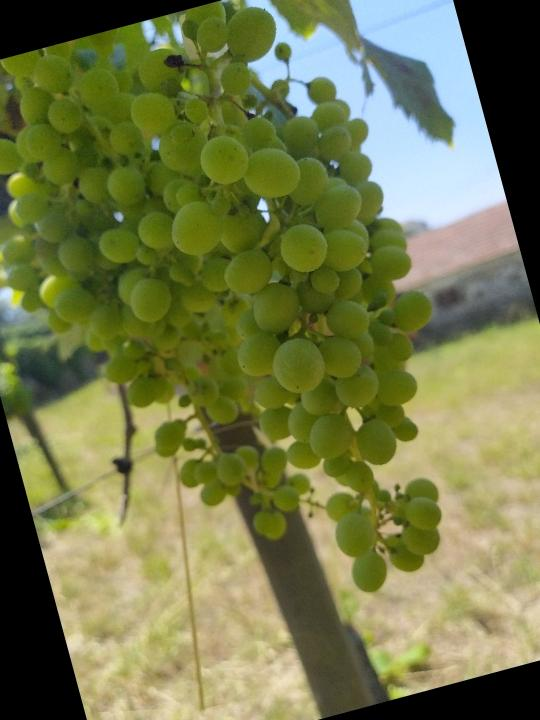grape: (0, 0, 503, 665)
